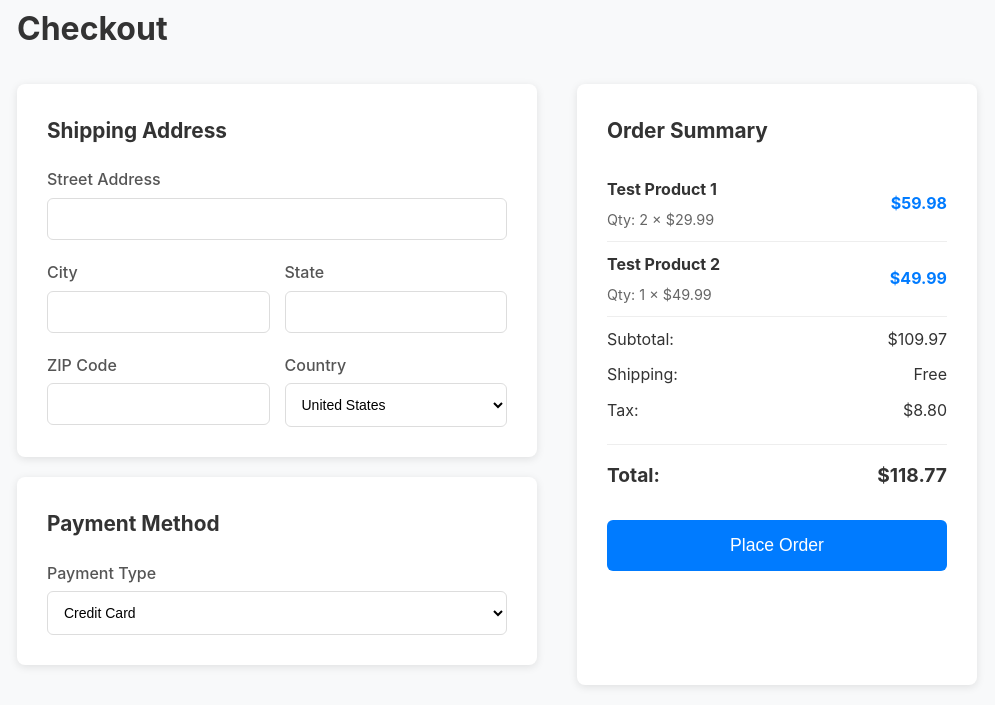
Checkout Page › Order Placement › shows loading state during order placement
This screenshot has width=995, height=705.
Type "123 Main St" into the field labelled "Street Address" at (277, 219), box [47, 198, 507, 240]
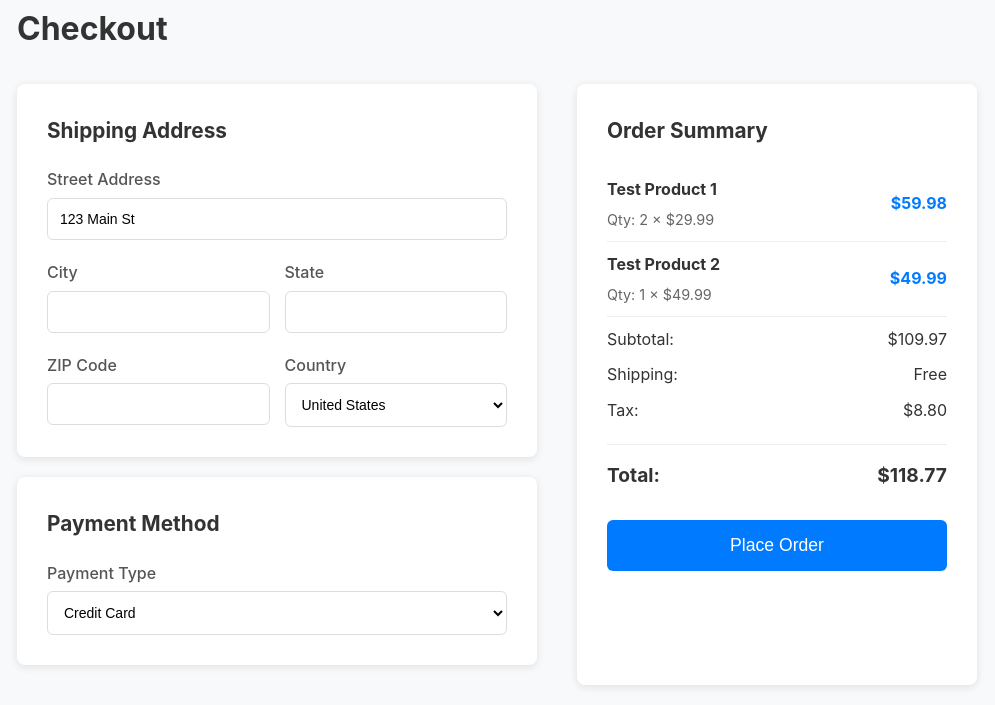
Type "Anytown" into the field labelled "City" at (158, 312), box [47, 291, 270, 333]
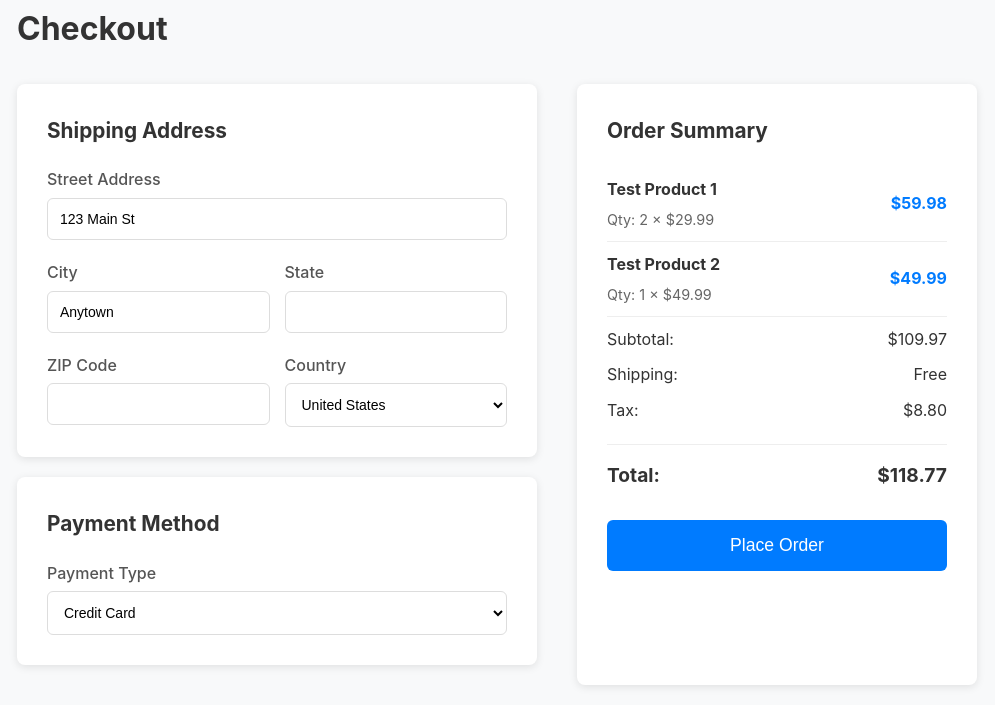
Type "CA" into the field labelled "State" at (396, 312), box [284, 291, 507, 333]
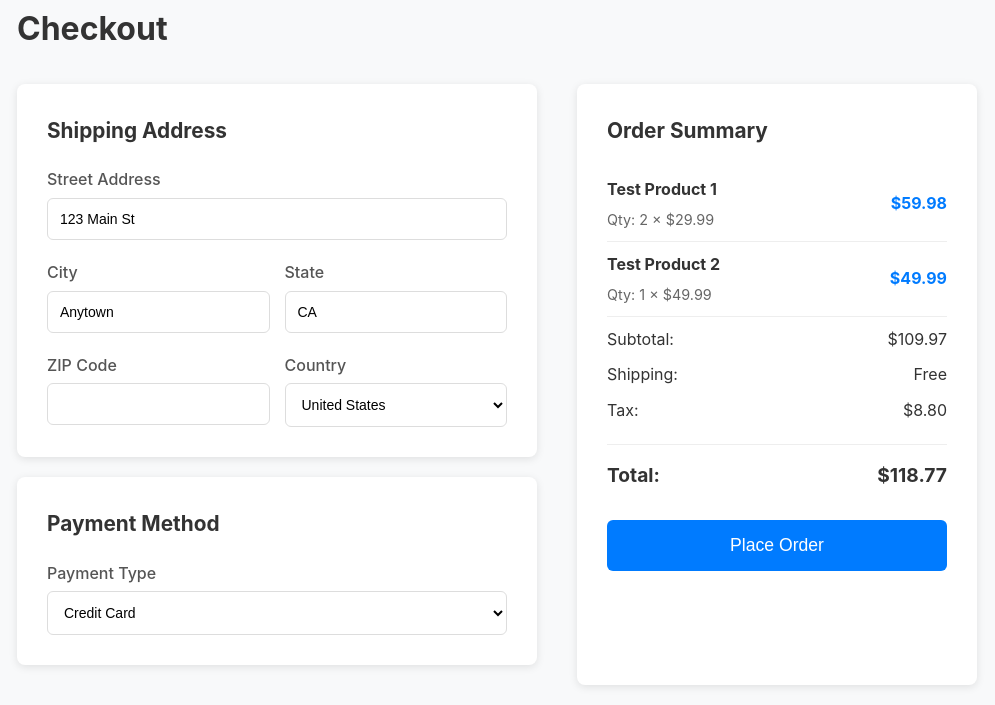
Type "12345" into the field labelled "ZIP Code" at (158, 404), box [47, 383, 270, 425]
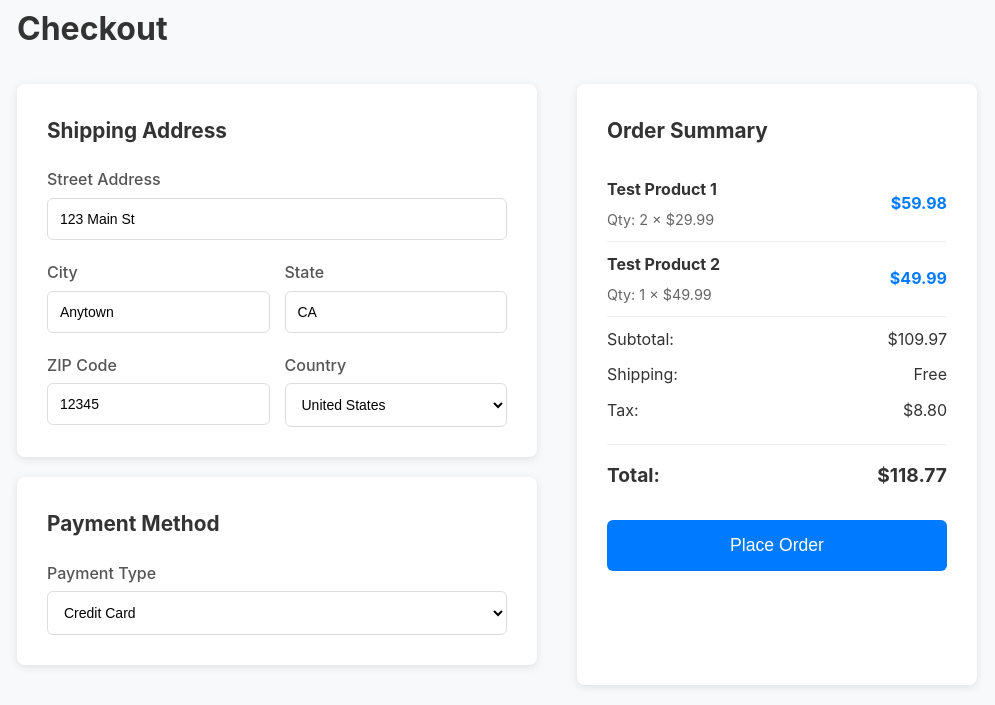
Click the button "Place Order" at (777, 546), box [607, 520, 947, 571]
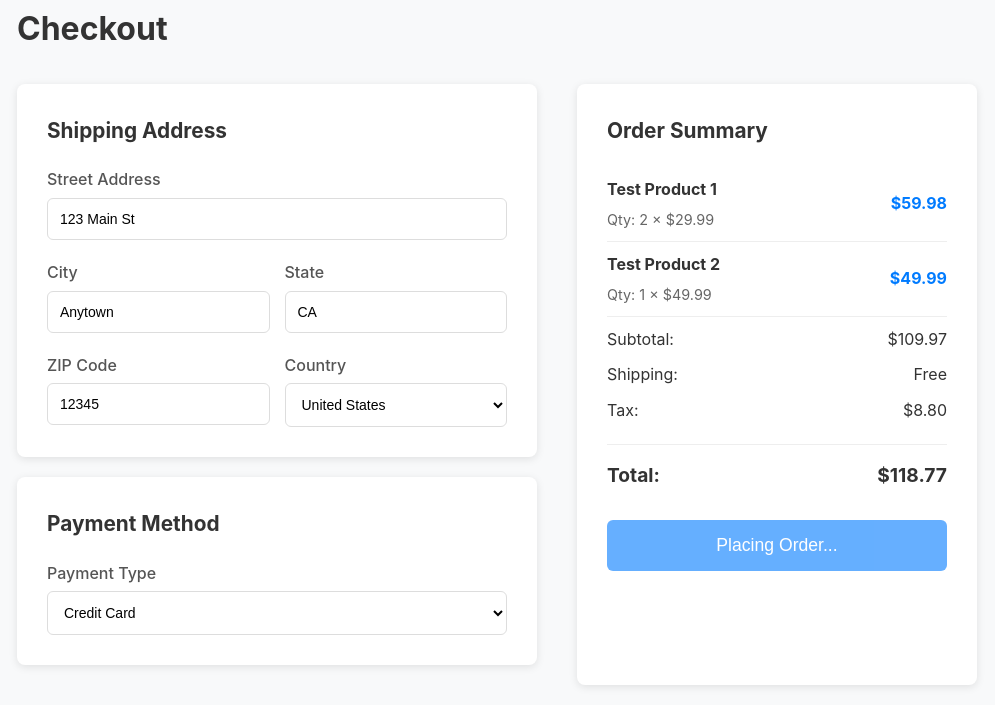
Result: the button "Placing Order..." is disabled at [607, 520, 947, 571]
